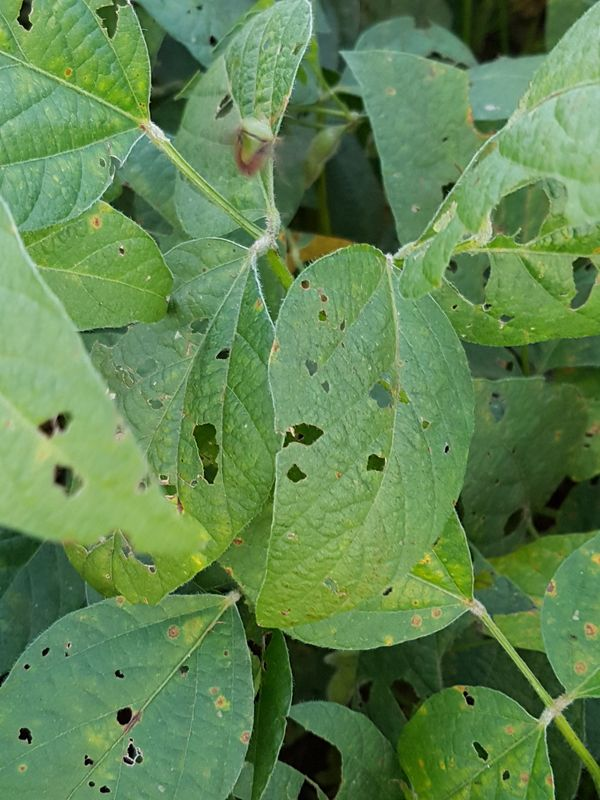Edessa_meditabunda: (224, 108, 286, 182)
